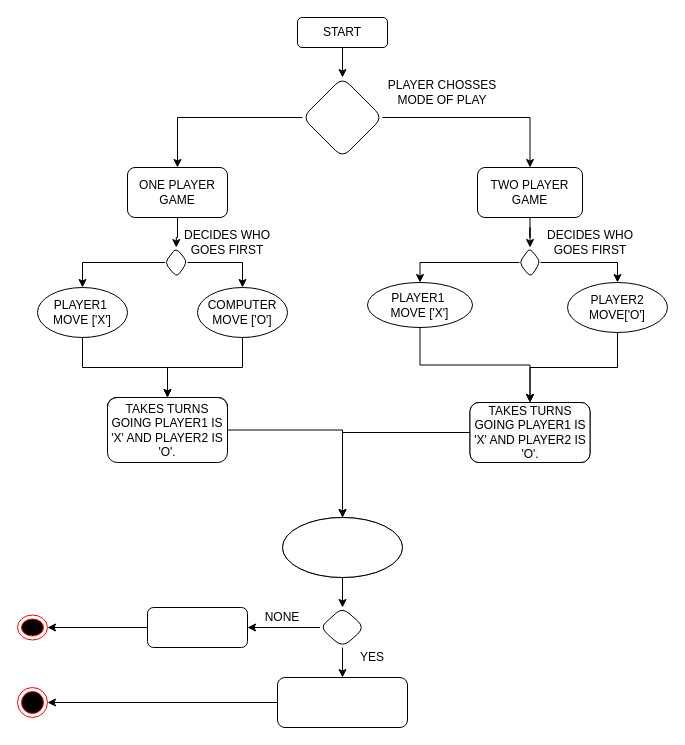
This 685x745 diagram has some shape labels left out. Here are the shapes that lost their labels. From the top down, the box of each, then its label:
(302, 76, 382, 158): CHOOSE MODE
(282, 516, 402, 578): LOOKS FOR THREE IN LINE
(146, 606, 248, 648): DECLARE AS TIE GAME
(276, 676, 408, 728): DECLARE CURRENT PLAYER AS WINNER
